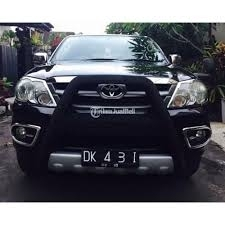plate: (83, 148, 137, 166)
